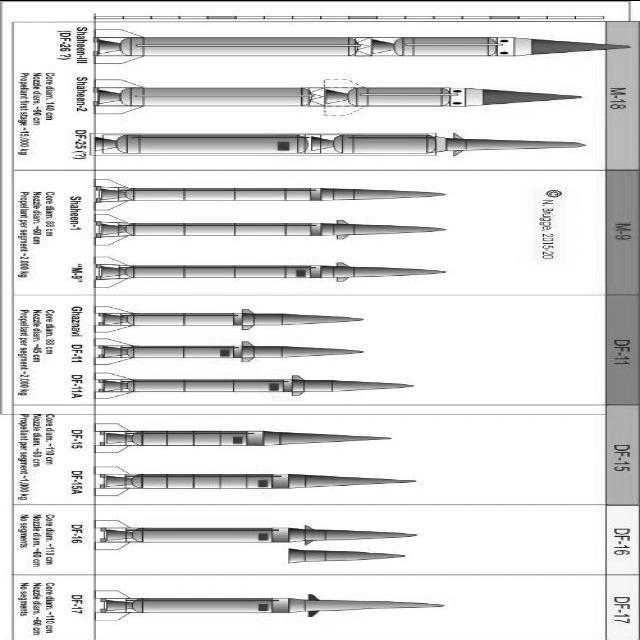missile: (93, 27, 636, 66), (91, 126, 601, 160), (97, 254, 459, 291), (95, 461, 443, 499), (82, 588, 444, 622), (89, 367, 418, 404), (84, 516, 426, 551), (95, 419, 410, 455), (91, 337, 366, 365)
